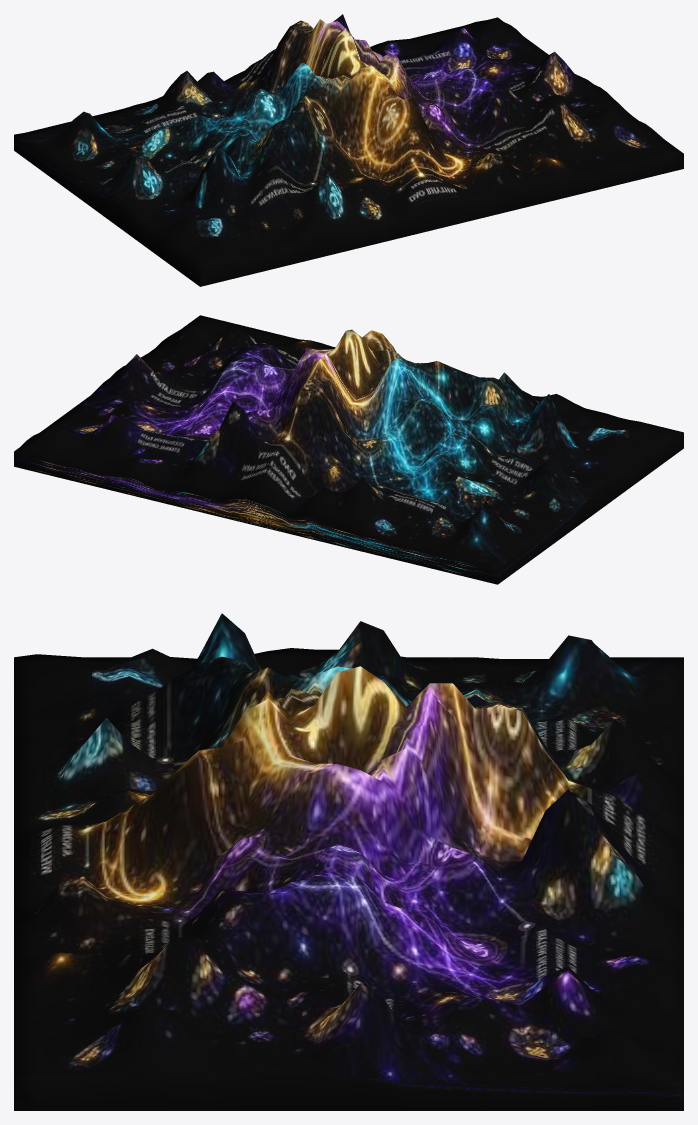
File: Dao_Rhythm_Visualization.glb
3 renders of one model, top to bottom at view 1: azimuth 30°, elevation 25°; view 2: azimuth 150°, elevation 25°; view 3: azimuth 270°, elevation 25°, orthographic. The views are drawn at different scales.
Visible parts, largest first — view 1: Dao_Rhythm_Visualization; view 2: Dao_Rhythm_Visualization; view 3: Dao_Rhythm_Visualization.
Part boxes in pixels (bbox=[...]): Dao_Rhythm_Visualization: bbox=[14, 14, 683, 286]; Dao_Rhythm_Visualization: bbox=[14, 315, 683, 584]; Dao_Rhythm_Visualization: bbox=[14, 613, 683, 1110].
Bounding box in the file's own units: 2 × 0.51 × 1.33.
1 material, 1 textured.
